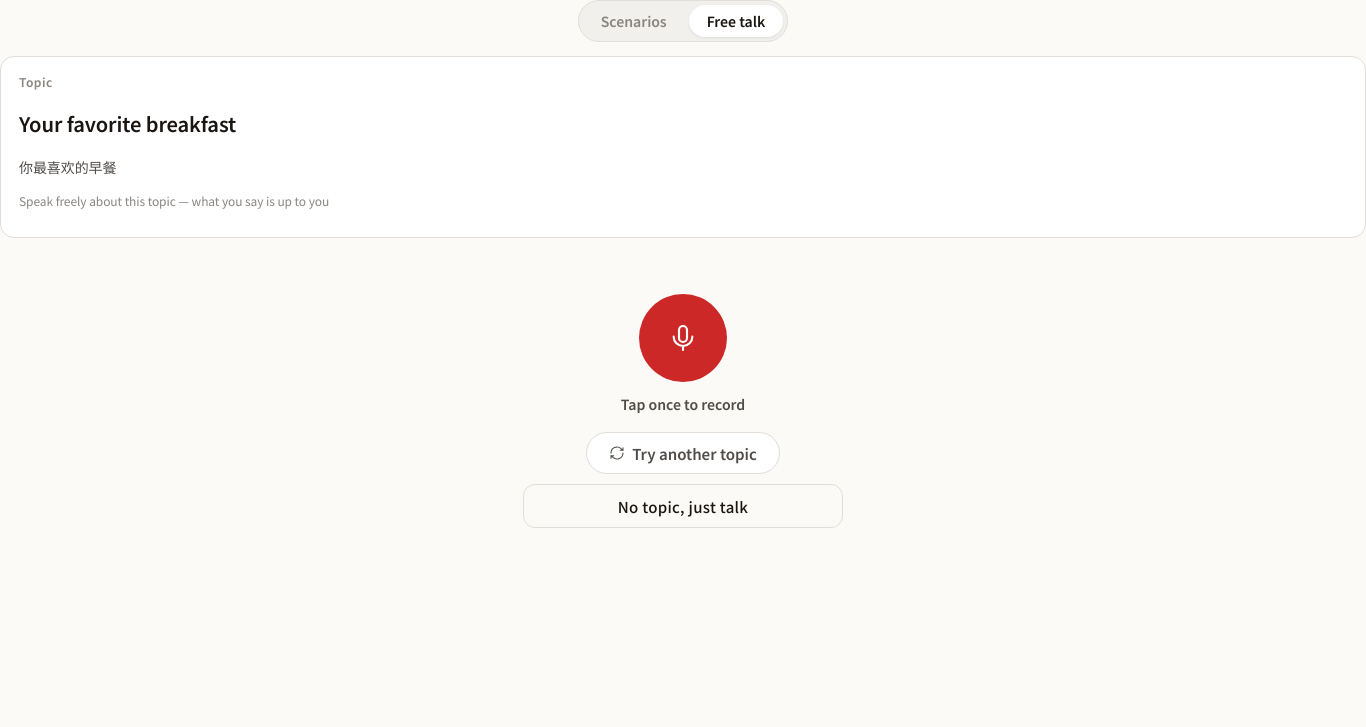
Test: PracticePage 自由说模式 › feedback view in free mode offers Next topic
Expected: the text "Your favorite breakfast" is shown, [19,109,236,138]
What coordinates should you click on to do the following:
click the button with class "su-rec"
I would click on:
 (683, 338)
Its box is [639,294,727,382].
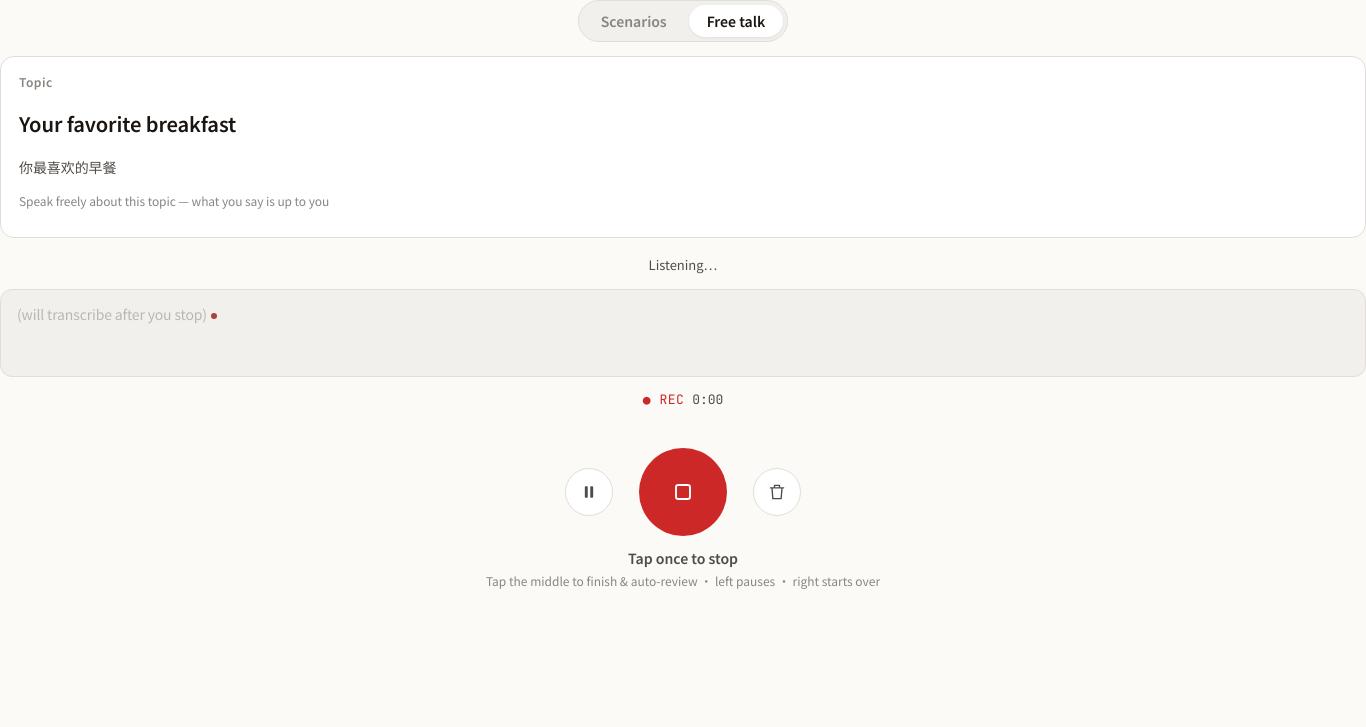
Now the text "Tap once to stop" is shown, box [628,548,738,568]
What coordinates should you click on to do the following:
click the button with class "su-rec"
I would click on:
 (683, 492)
Its box is [639,448,727,536].
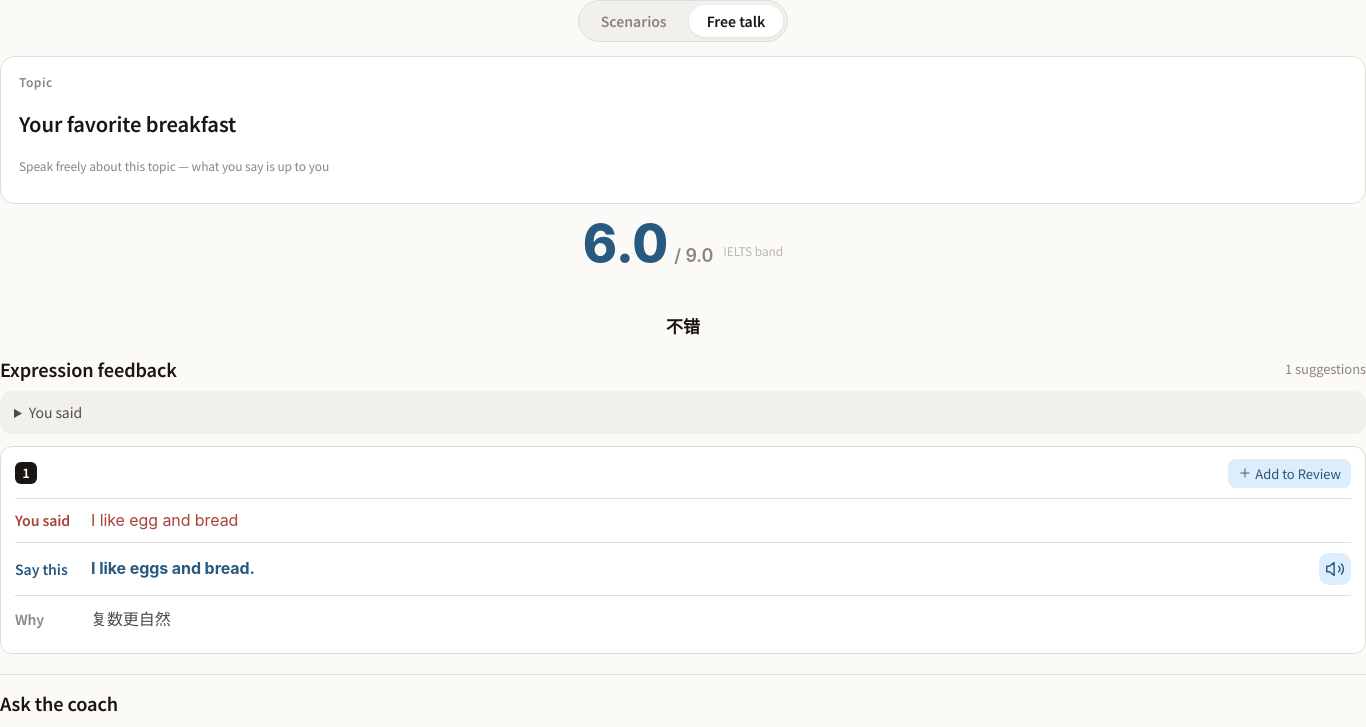
Now the text "I like eggs and bread." is shown, box [91,558,255,578]
